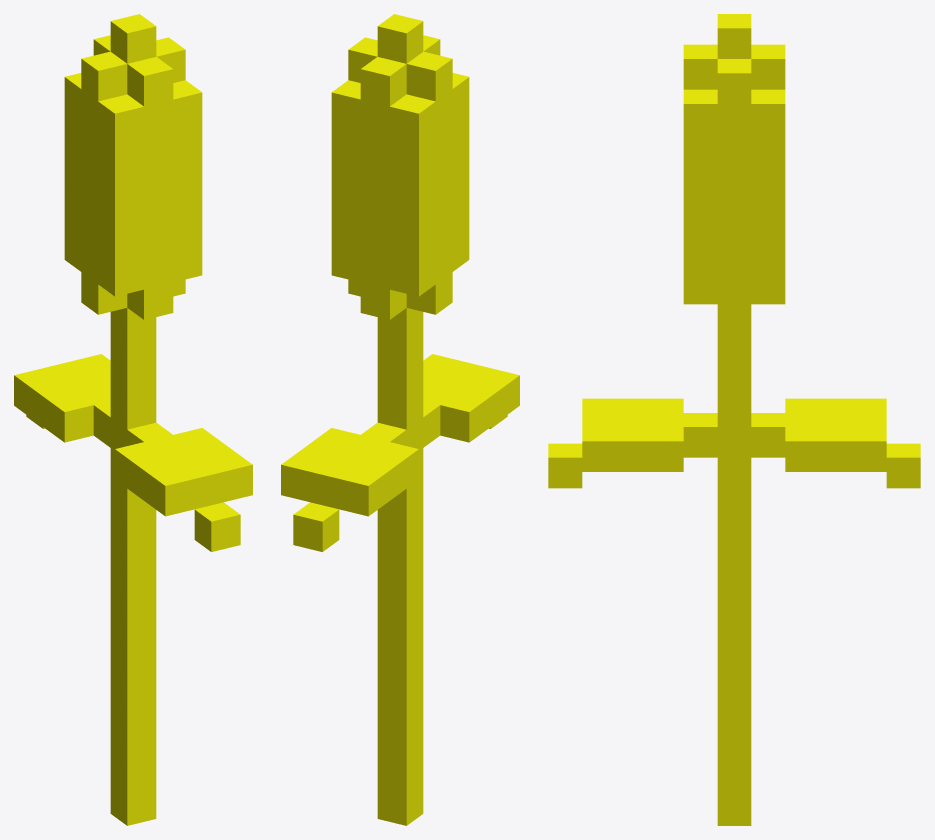
Rendered from voxel-farm-wheat.glb.
The picture shows the model from 3 angles, left to right: view 1: azimuth 30°, elevation 25°; view 2: azimuth 150°, elevation 25°; view 3: azimuth 270°, elevation 25°; orthographic projection.
Parts seen in each view (by area): view 1: VS_Farm_Wheat; view 2: VS_Farm_Wheat; view 3: VS_Farm_Wheat.
Part boxes in pixels (left/top/right/bottom): VS_Farm_Wheat: left=14, top=14, right=252, bottom=825; VS_Farm_Wheat: left=281, top=14, right=519, bottom=825; VS_Farm_Wheat: left=548, top=14, right=920, bottom=825.
Bounding box in the file's own units: 0.2999 × 2.6 × 1.1.
